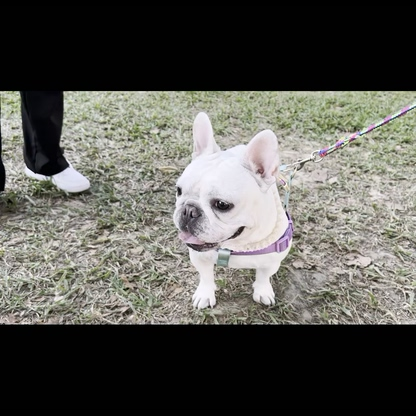bulldog: (169, 109, 300, 312)
